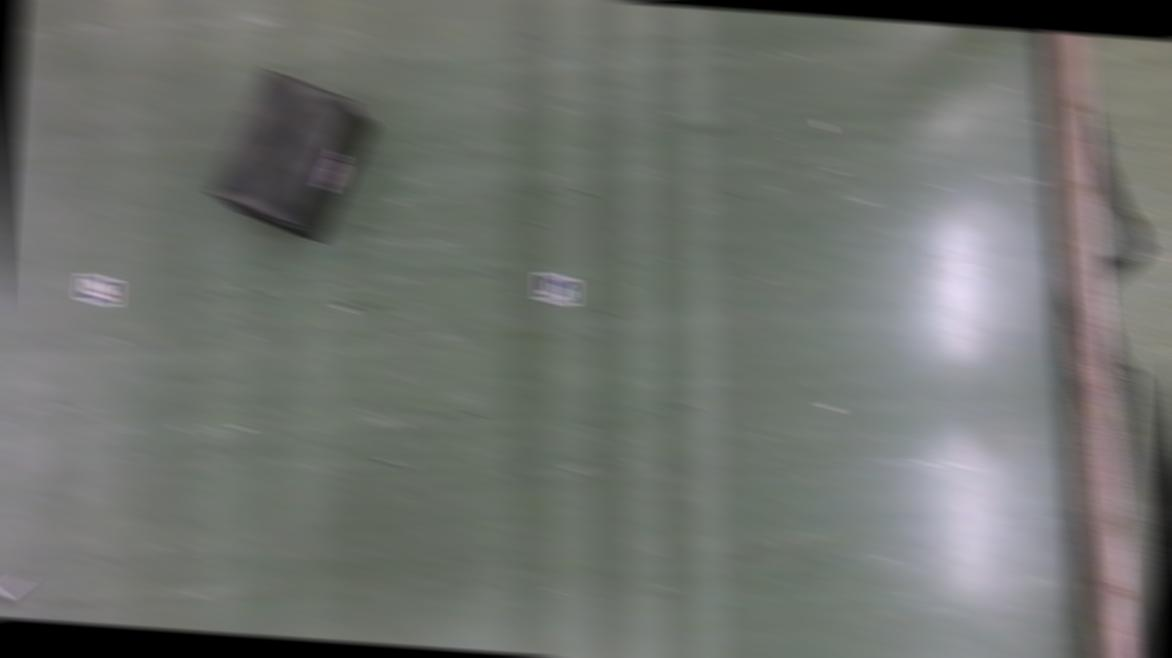probes: (0, 568, 33, 612)
rako: (205, 64, 379, 245)
